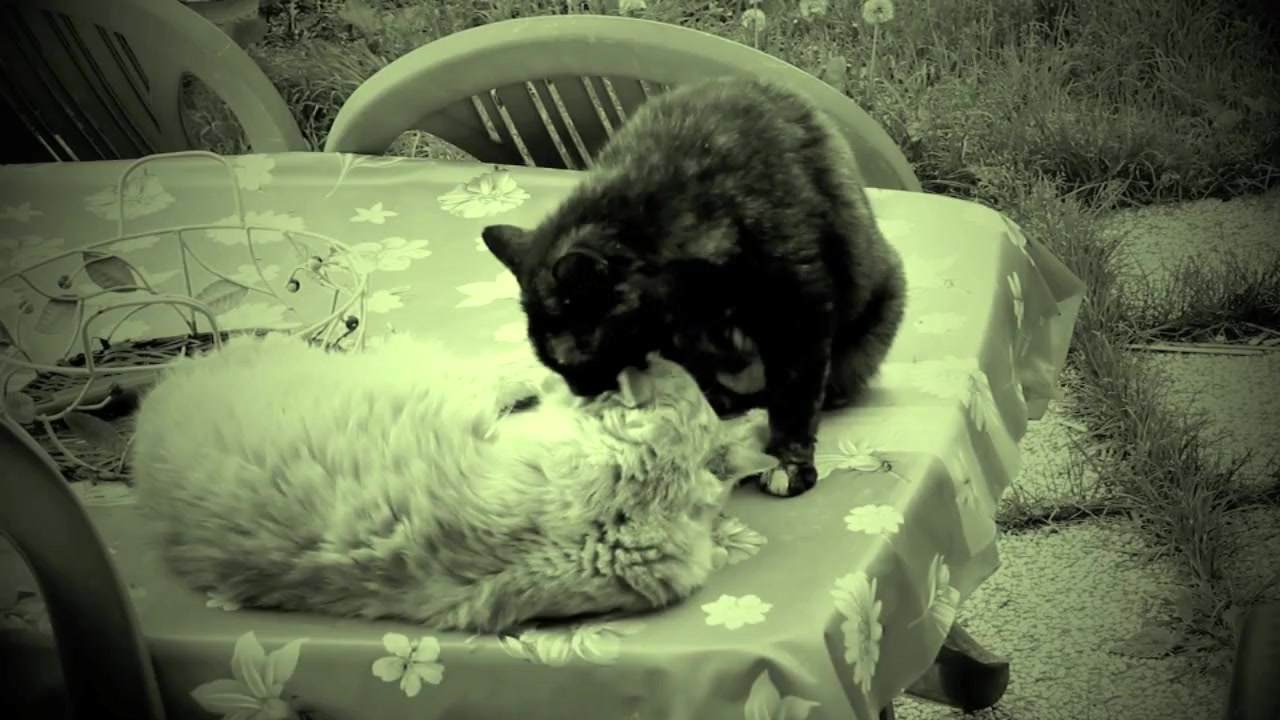cat: (484, 65, 906, 500)
